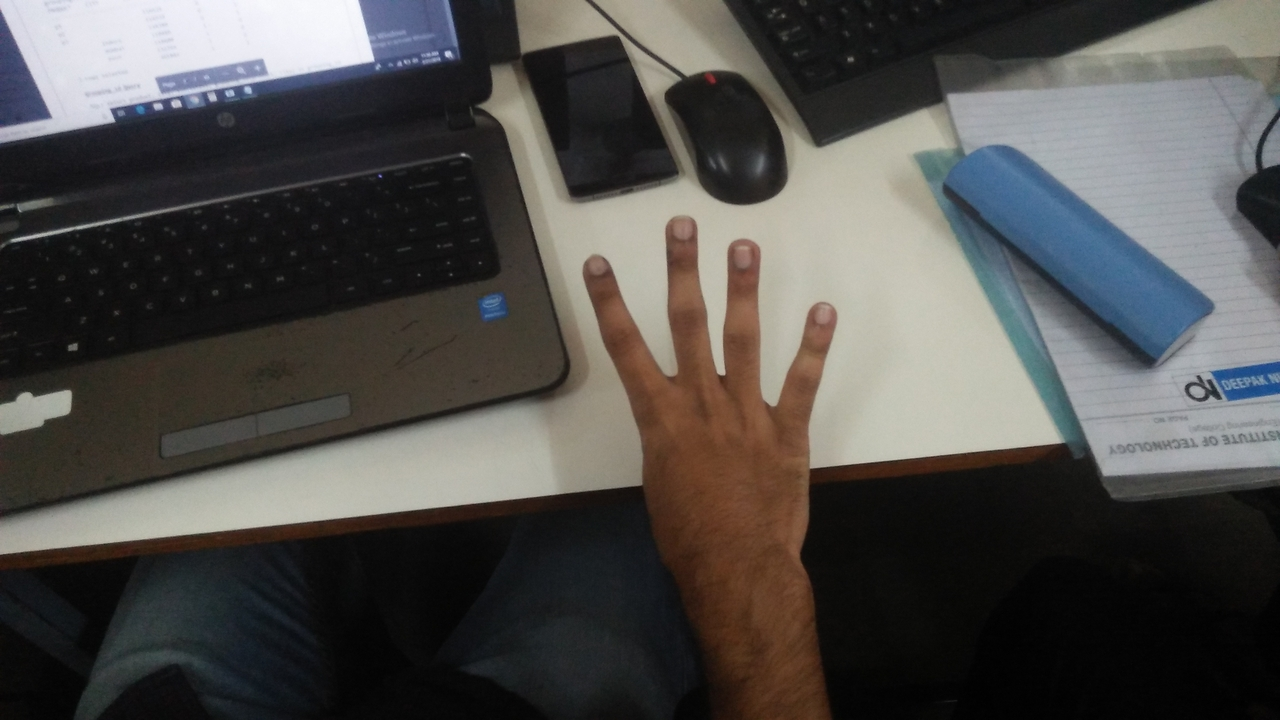fingertip: (794, 288, 848, 344), (718, 224, 774, 274), (656, 200, 708, 252), (574, 244, 630, 290)
